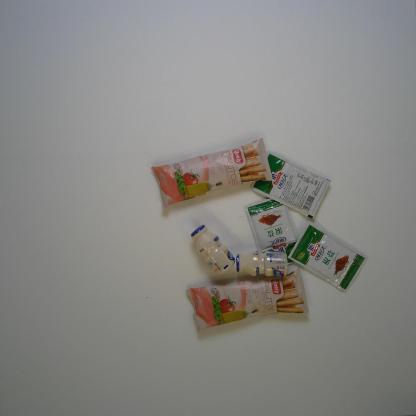Dessert: (148, 135, 276, 210), (184, 266, 310, 334)
Milk: (190, 222, 236, 277), (235, 249, 289, 278)
Seasoner: (287, 218, 369, 296), (249, 148, 332, 221), (244, 195, 302, 268)
